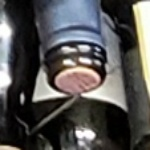bottle: (27, 27, 123, 110)
